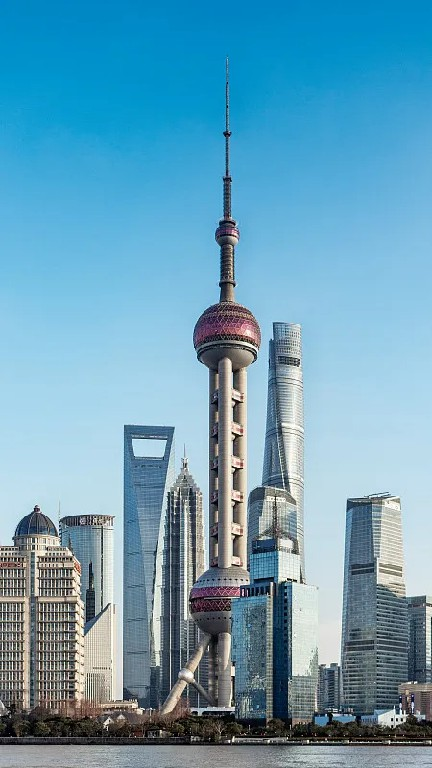Oriental: (159, 55, 261, 696)
